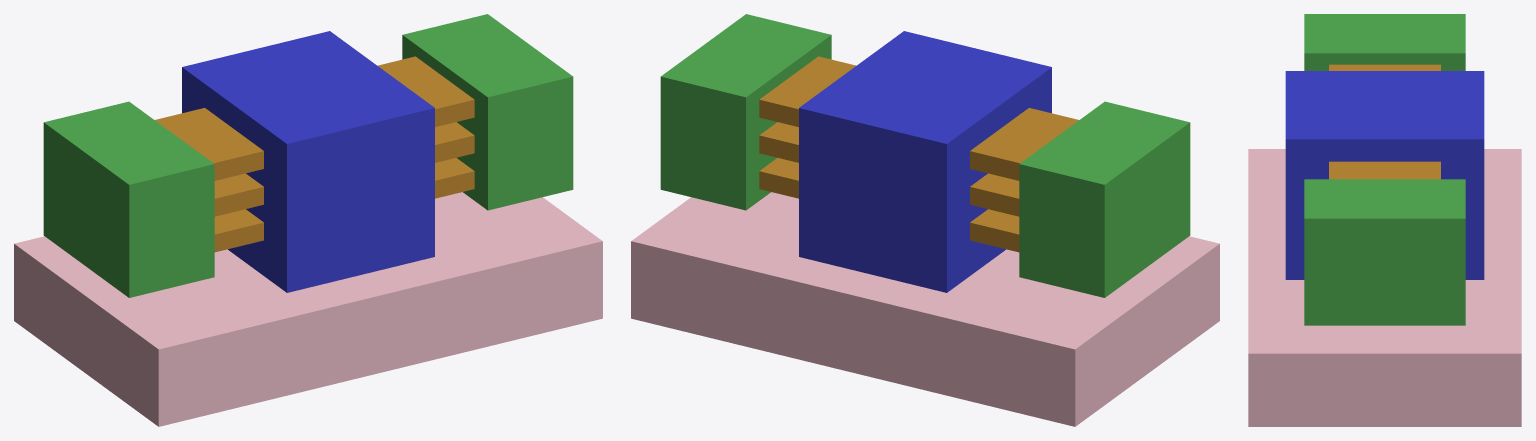
Rendered from simp_ns.obj.
3 views of the same model, side by side, from view 1: azimuth 30°, elevation 25°; view 2: azimuth 150°, elevation 25°; view 3: azimuth 270°, elevation 25° (orthographic). The views are drawn at different scales.
Parts seen in each view (by area): view 1: sub, gate, src0, drn0, ch2, ch1, ch0; view 2: sub, gate, src0, drn0, ch2, ch1, ch0; view 3: sub, drn0, gate, src0, ch2.
Part boxes in pixels (x1,y1,x2,y2): sub: (14, 192, 602, 426); gate: (182, 31, 434, 292); src0: (43, 101, 214, 297); drn0: (402, 14, 573, 210); ch2: (155, 56, 474, 180); ch1: (214, 122, 474, 216); ch0: (214, 158, 474, 252); sub: (631, 192, 1219, 426); gate: (799, 31, 1051, 292); src0: (1019, 101, 1190, 297); drn0: (660, 14, 831, 210); ch2: (759, 56, 1078, 180); ch1: (759, 122, 1019, 216); ch0: (759, 158, 1019, 252); sub: (1248, 149, 1521, 426); drn0: (1304, 179, 1465, 325); gate: (1285, 71, 1484, 279); src0: (1304, 14, 1465, 70); ch2: (1329, 64, 1440, 179).
Bounding box in the file's own units: 156 × 78 × 88.
